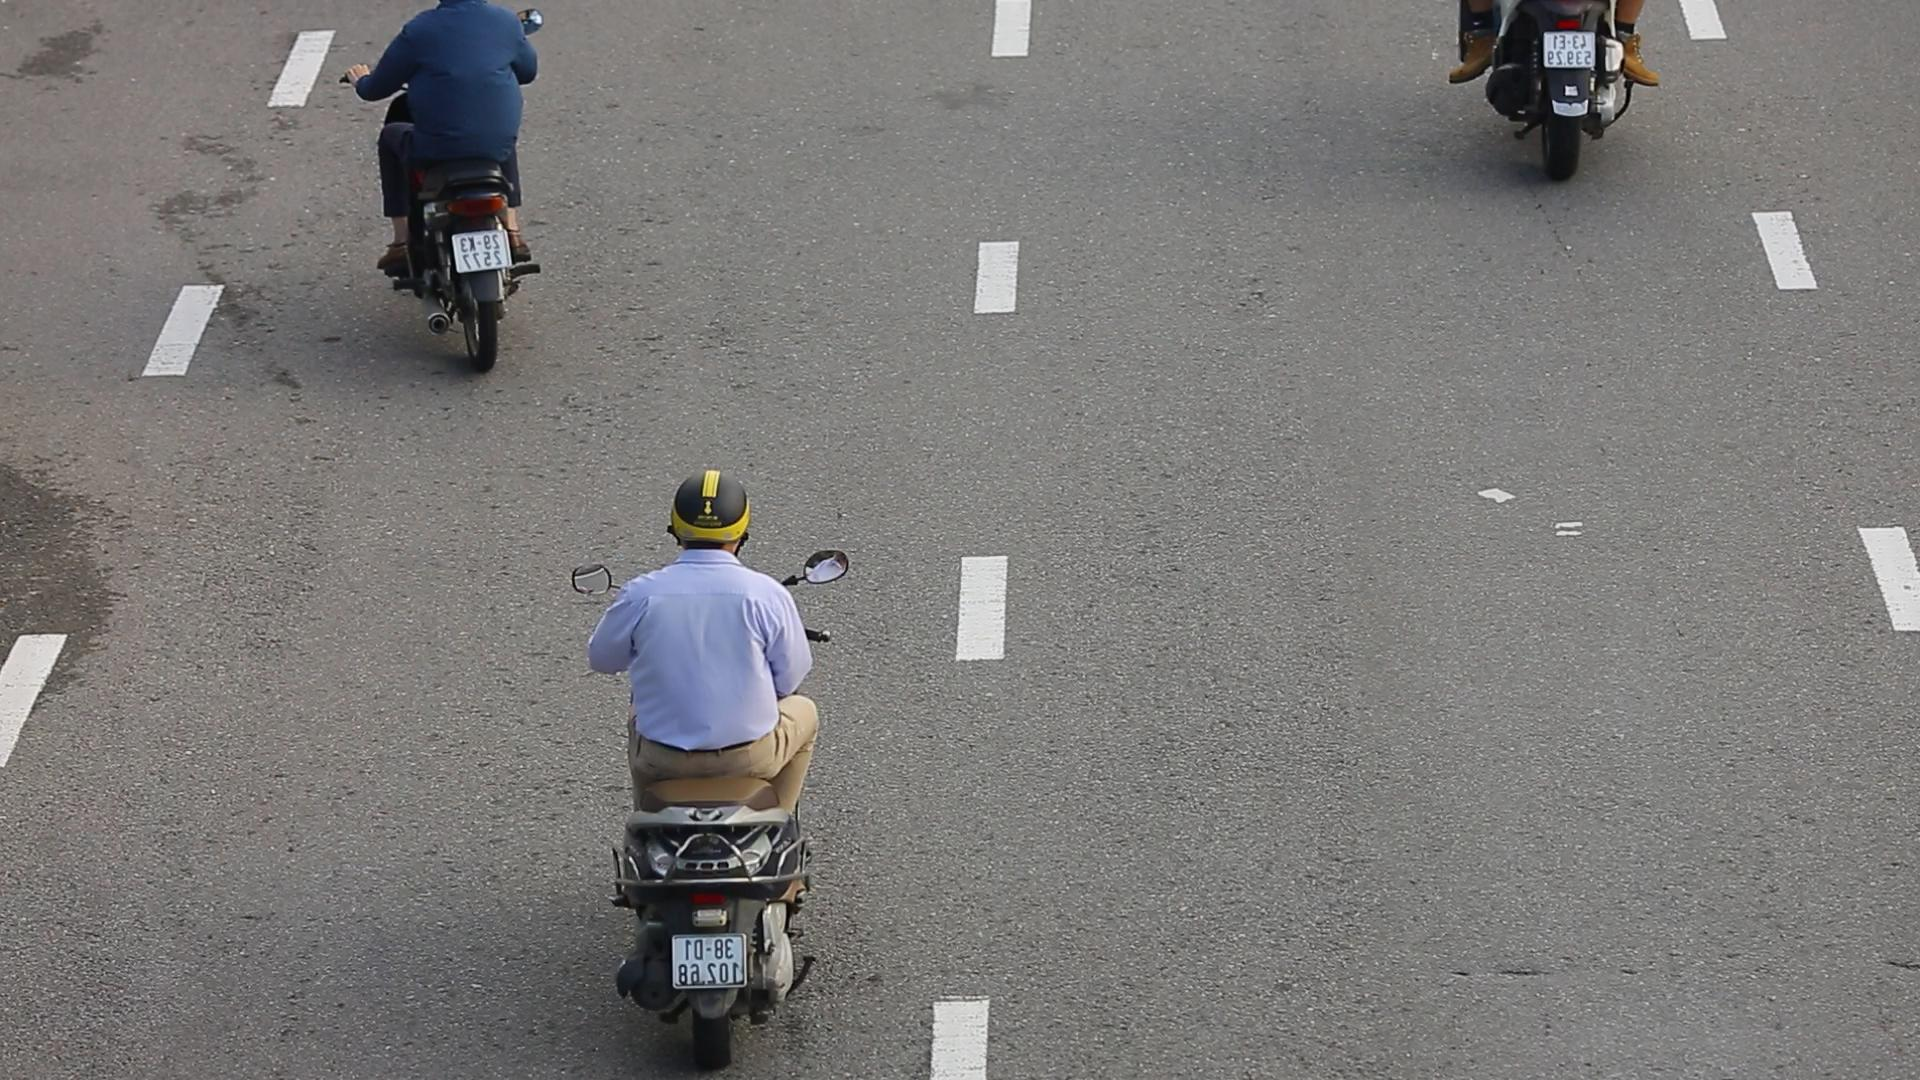motobike: (571, 463, 860, 1064)
